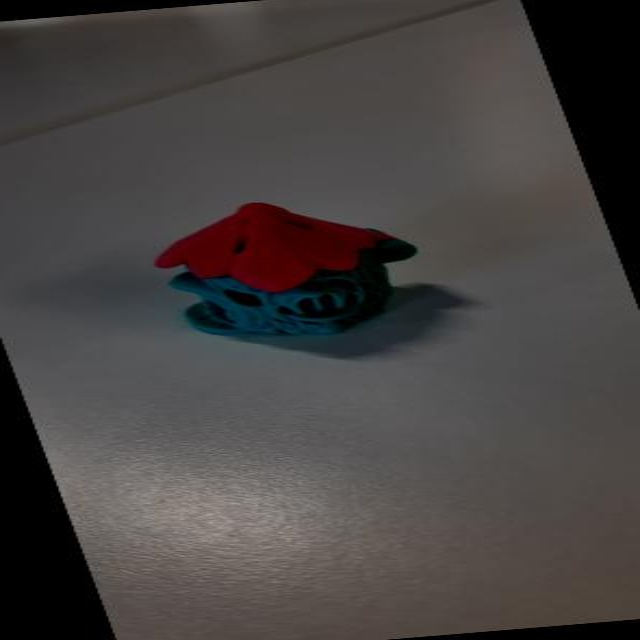House: (108, 172, 516, 373)
